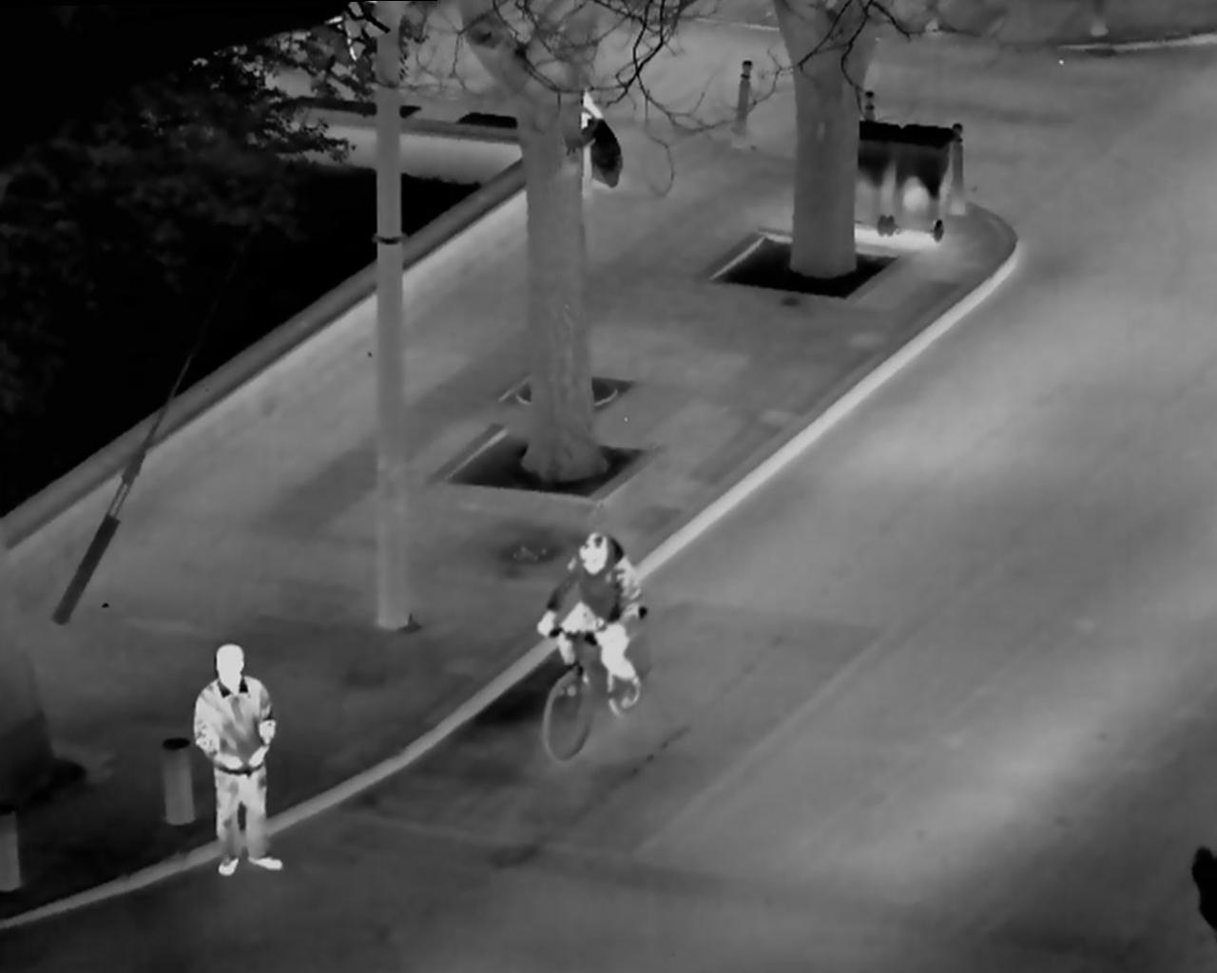person: (531, 524, 656, 772), (191, 639, 289, 882)
